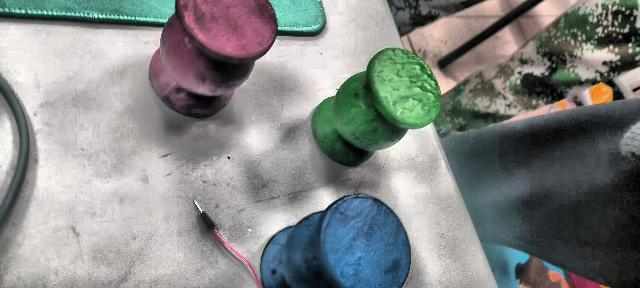blue: (259, 194, 411, 286)
green: (310, 46, 446, 170)
red: (147, 0, 277, 114)
